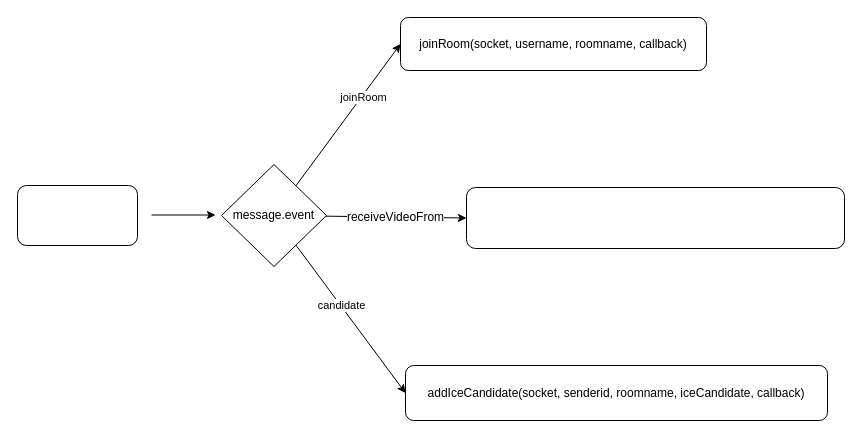
This 862x438 diagram has some shape labels left out. Each missing label, with the centre of its shape:
"io.on('connection)" belongs at point 77,215.
"receiveVideoFrom(socket, userid, roomname, sdpOffer, callback)" belongs at point 655,217.
